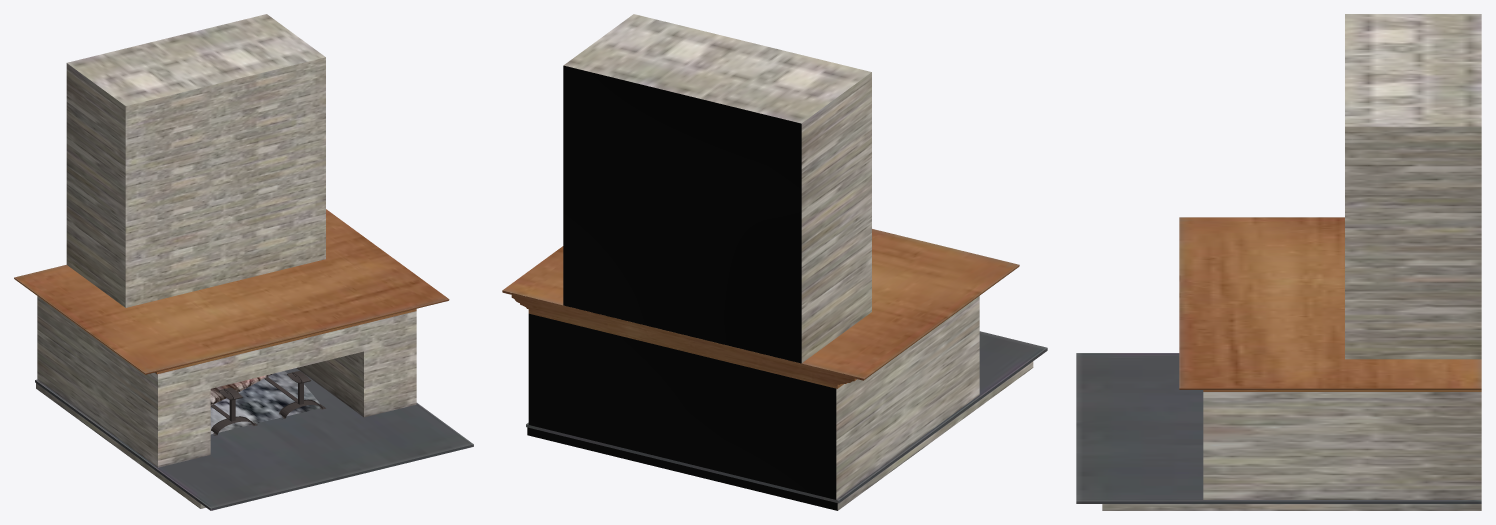
Rendered from sh-scopia-fireplace2.glb.
3 views of the same model, side by side, from view 1: azimuth 30°, elevation 25°; view 2: azimuth 150°, elevation 25°; view 3: azimuth 270°, elevation 25° (orthographic). The views are drawn at different scales.
Visible parts, largest first — view 1: Cube.000, Cube.001_Cube.002, Cube.002_Cube.001, Circle.003_Circle.005; view 2: Cube.000, Cube.001_Cube.002, Cube.002_Cube.001; view 3: Cube.000, Cube.001_Cube.002, Cube.002_Cube.001.
Part boxes in pixels (bbox=[...]): Cube.000: bbox=[36, 14, 416, 508]; Cube.001_Cube.002: bbox=[14, 209, 449, 374]; Cube.002_Cube.001: bbox=[35, 368, 473, 510]; Circle.003_Circle.005: bbox=[211, 371, 325, 435]; Cube.000: bbox=[527, 14, 1033, 510]; Cube.001_Cube.002: bbox=[502, 229, 1019, 388]; Cube.002_Cube.001: bbox=[502, 290, 1047, 503]; Cube.000: bbox=[1102, 14, 1481, 510]; Cube.001_Cube.002: bbox=[1179, 217, 1481, 391]; Cube.002_Cube.001: bbox=[1076, 353, 1481, 503].
Bounding box in the file's own units: 1 × 1 × 1.
Materials: 5 (4 with a texture image).
